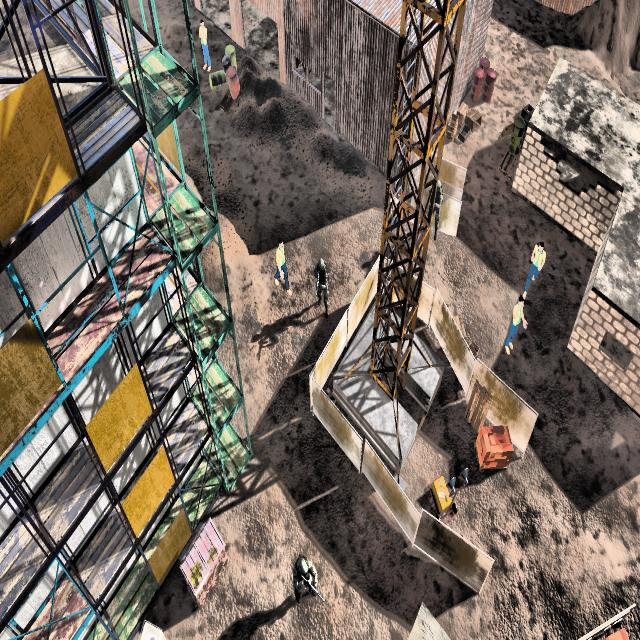bad: (280, 538, 328, 618), (311, 245, 334, 318), (429, 171, 445, 239)
good: (498, 284, 530, 364), (517, 224, 550, 296), (269, 223, 295, 302), (192, 12, 216, 80)
